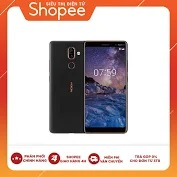nokia: (82, 38, 129, 136)
